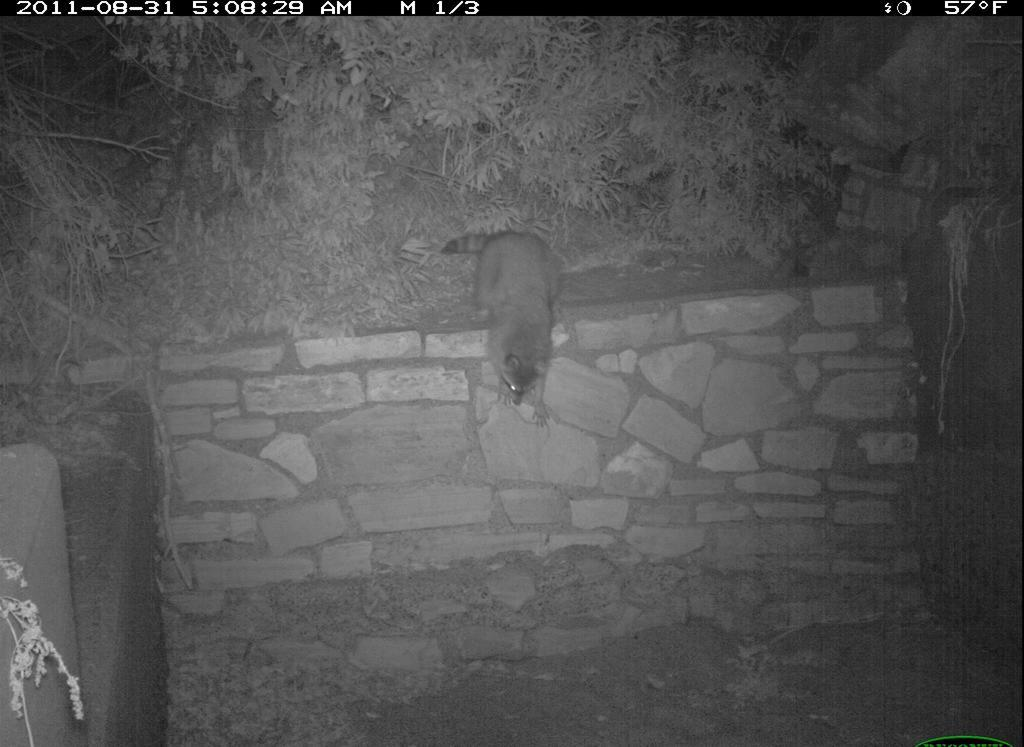raccoon: (441, 230, 565, 432)
